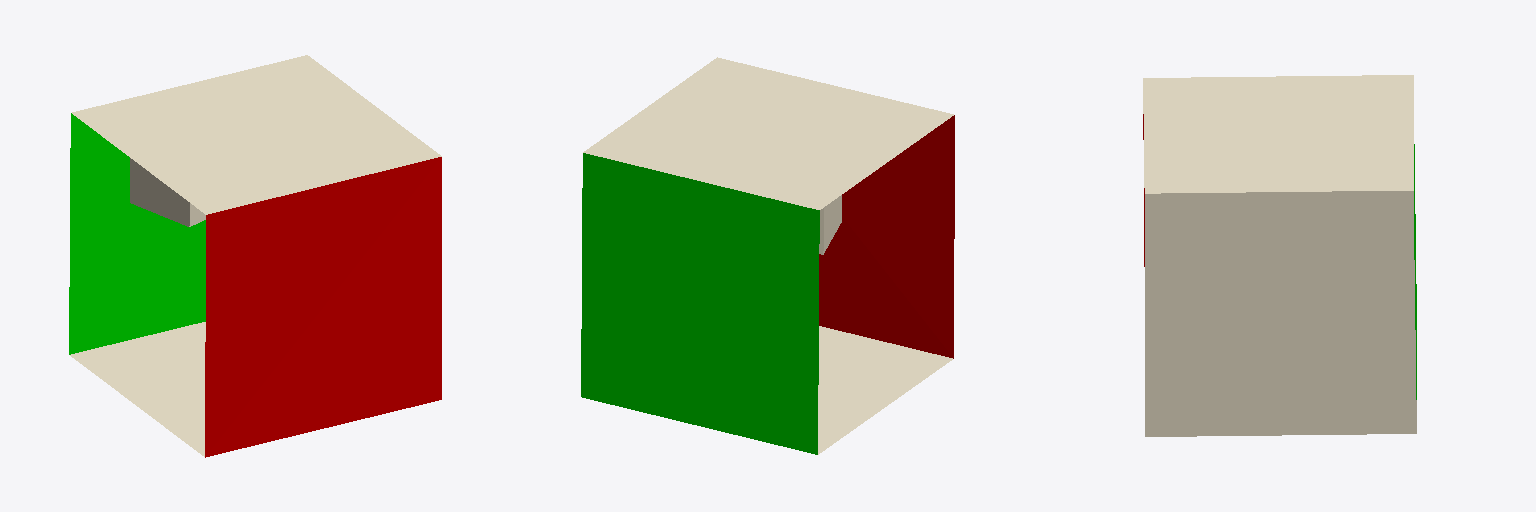
File: cornellbox.obj
3 renders of one model, left to right at view 1: azimuth 30°, elevation 25°; view 2: azimuth 150°, elevation 25°; view 3: azimuth 270°, elevation 25°, orthographic.
Visible parts, largest first — view 1: cornell_box; view 2: cornell_box; view 3: cornell_box.
Boxes of the visible parts, box(x1,y1,x2,y2) form: cornell_box: box(69, 55, 441, 457); cornell_box: box(581, 57, 954, 454); cornell_box: box(1143, 75, 1416, 436).
Size of the model in its own units: 78.06 by 77.61 by 78.15.